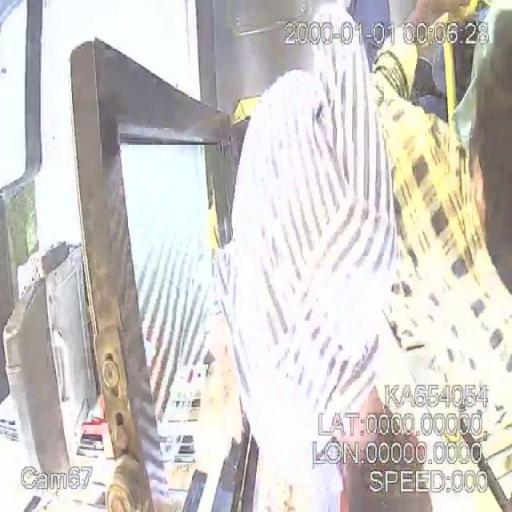persona: (212, 1, 510, 511), (211, 1, 433, 511), (369, 1, 511, 511)
